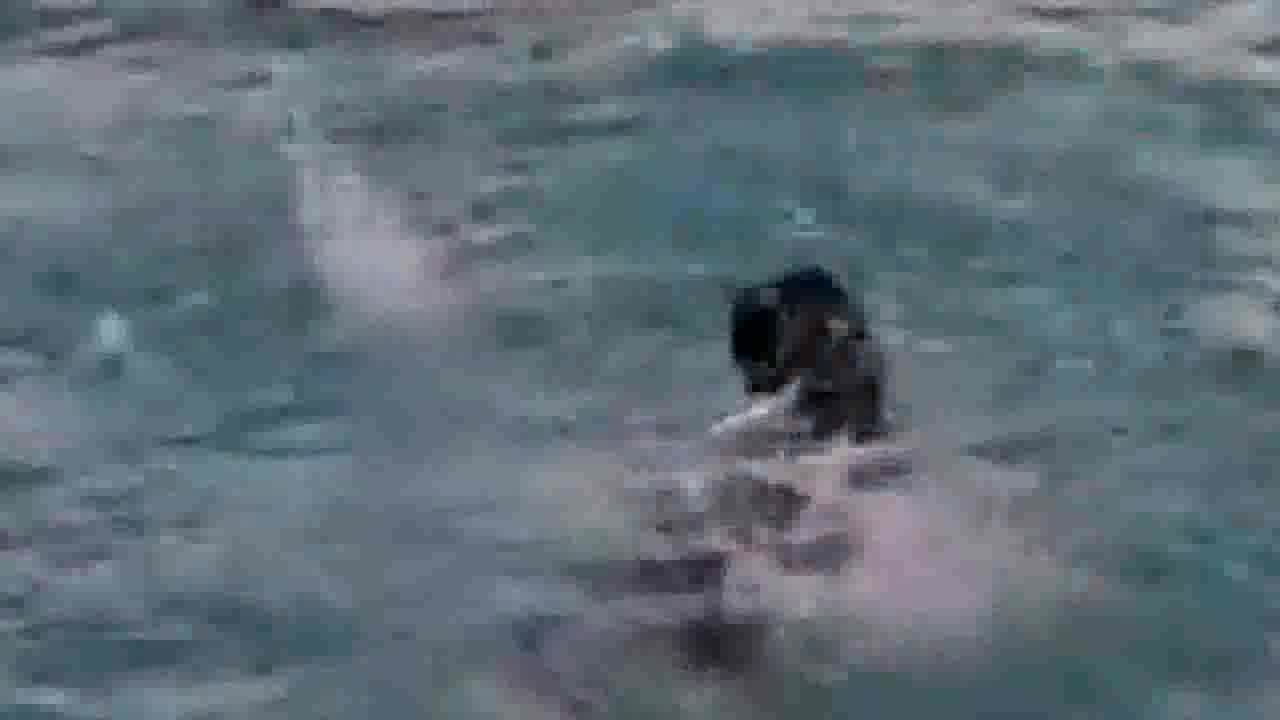Drowning: (699, 264, 928, 662)
